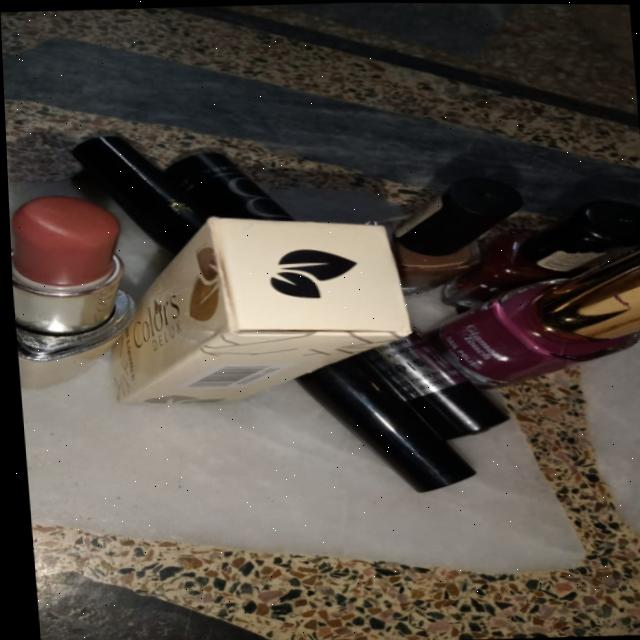lip stick: (7, 189, 166, 404)
